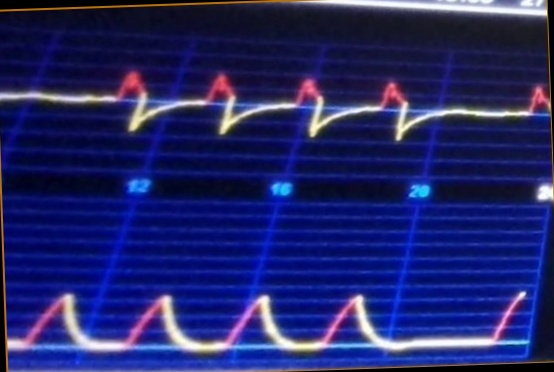Accumulation Flow: (6, 59, 549, 163)
Volume: (8, 258, 526, 359)
